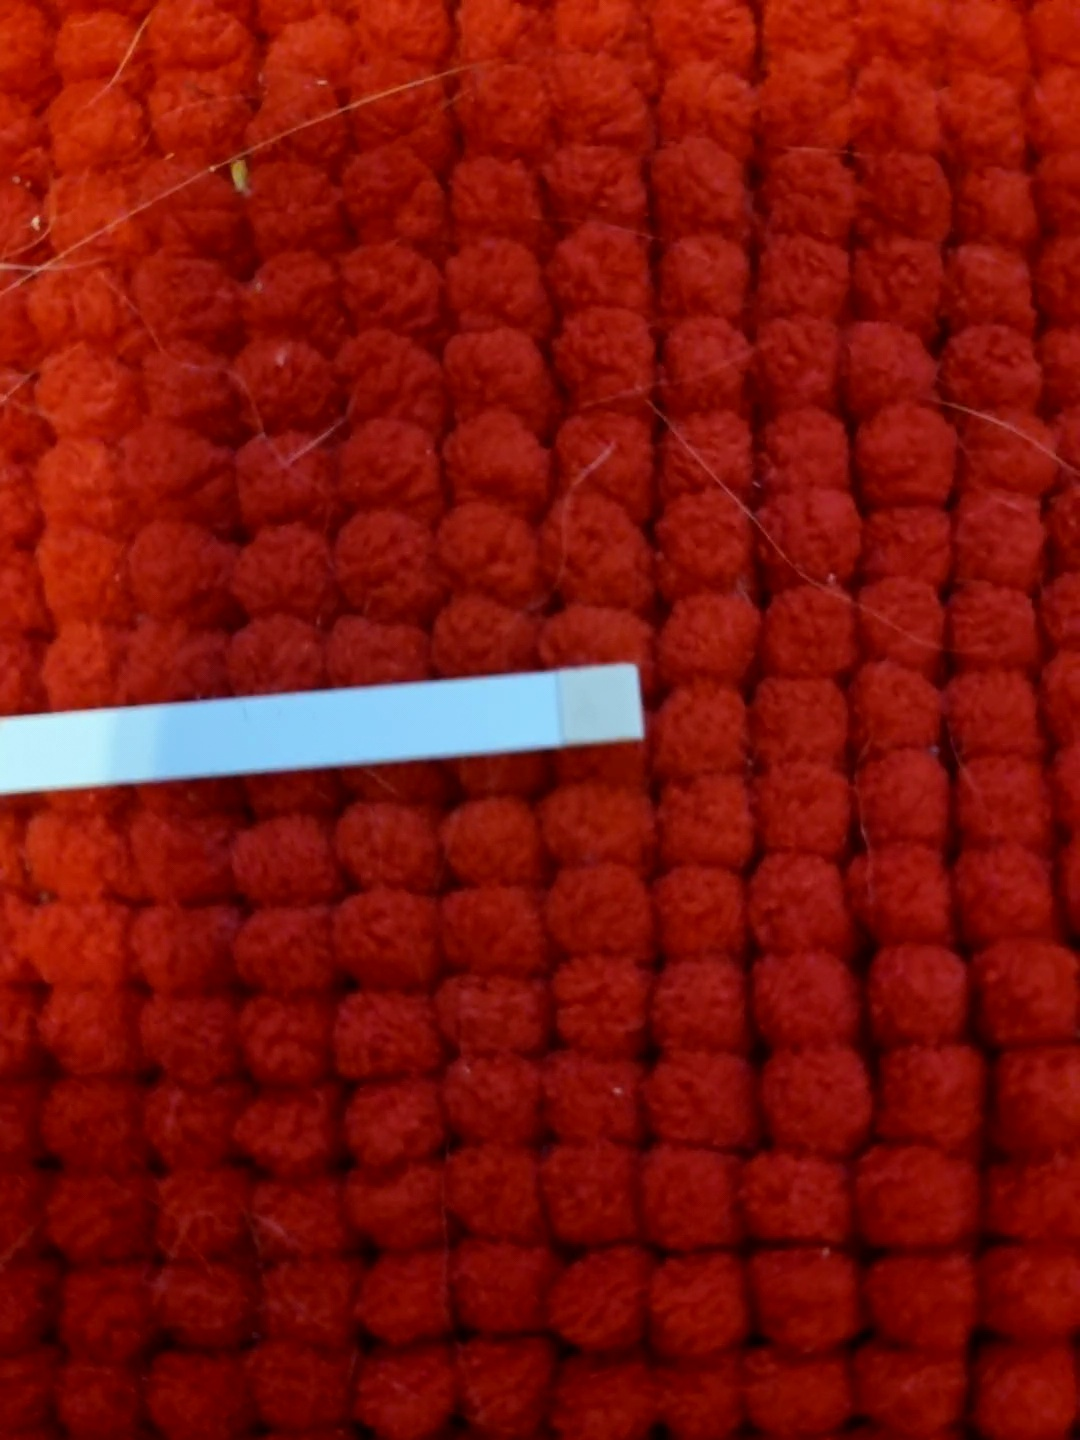keto-tip: (546, 657, 649, 749)
